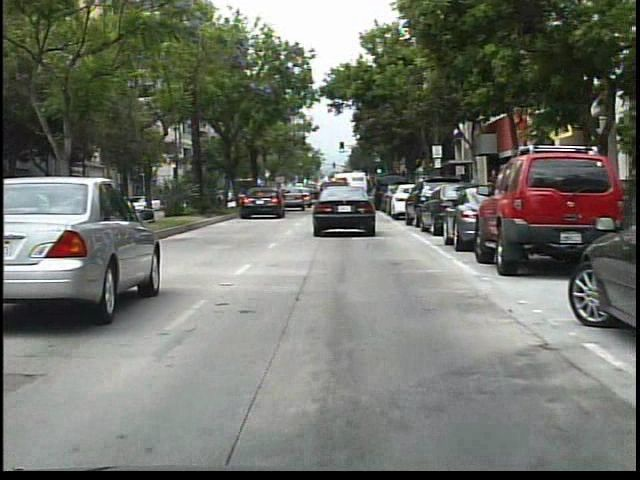person: (480, 160, 505, 221)
